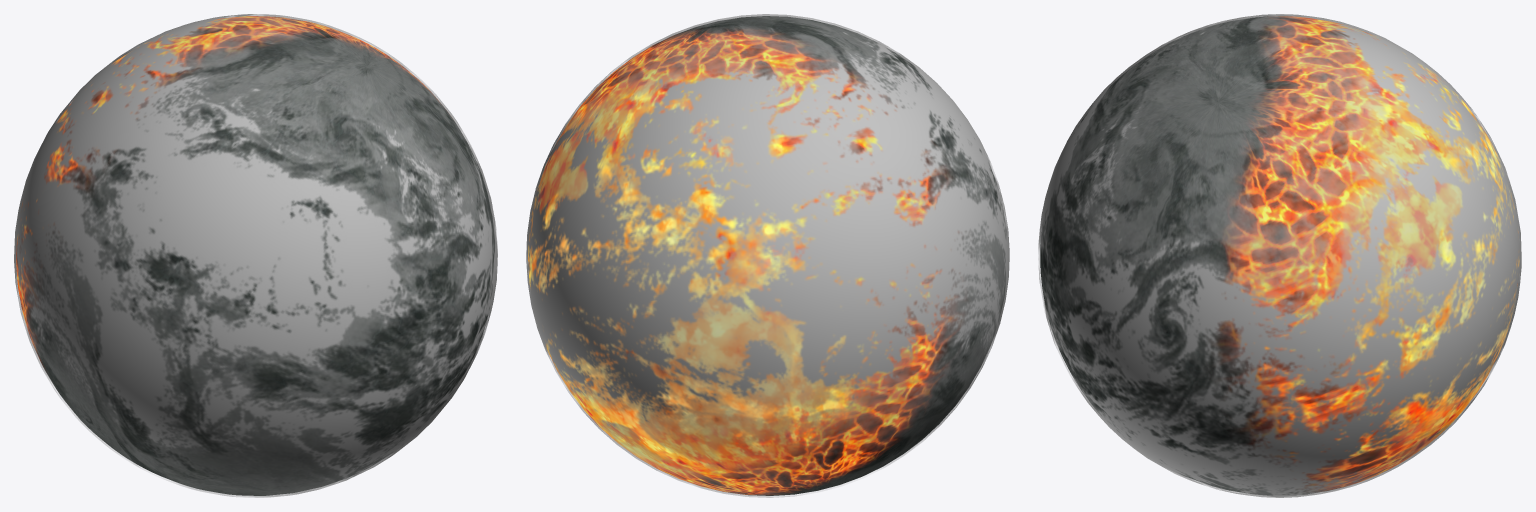
The model's file is planet9.glb.
The picture shows the model from 3 angles, left to right: view 1: azimuth 30°, elevation 25°; view 2: azimuth 150°, elevation 25°; view 3: azimuth 270°, elevation 25°; orthographic projection.
Visible parts, largest first — view 1: clouds, planet; view 2: clouds, planet; view 3: clouds, planet.
Part boxes in pixels (x1,y1,x2,y2): clouds: (14,14,497,497); planet: (16,16,494,495); clouds: (526,14,1009,497); planet: (528,16,1006,495); clouds: (1038,14,1521,497); planet: (1040,16,1519,495).
Bounding box in the file's own units: 2.02 × 2.02 × 2.01.
Materials: 2 (2 with a texture image).
